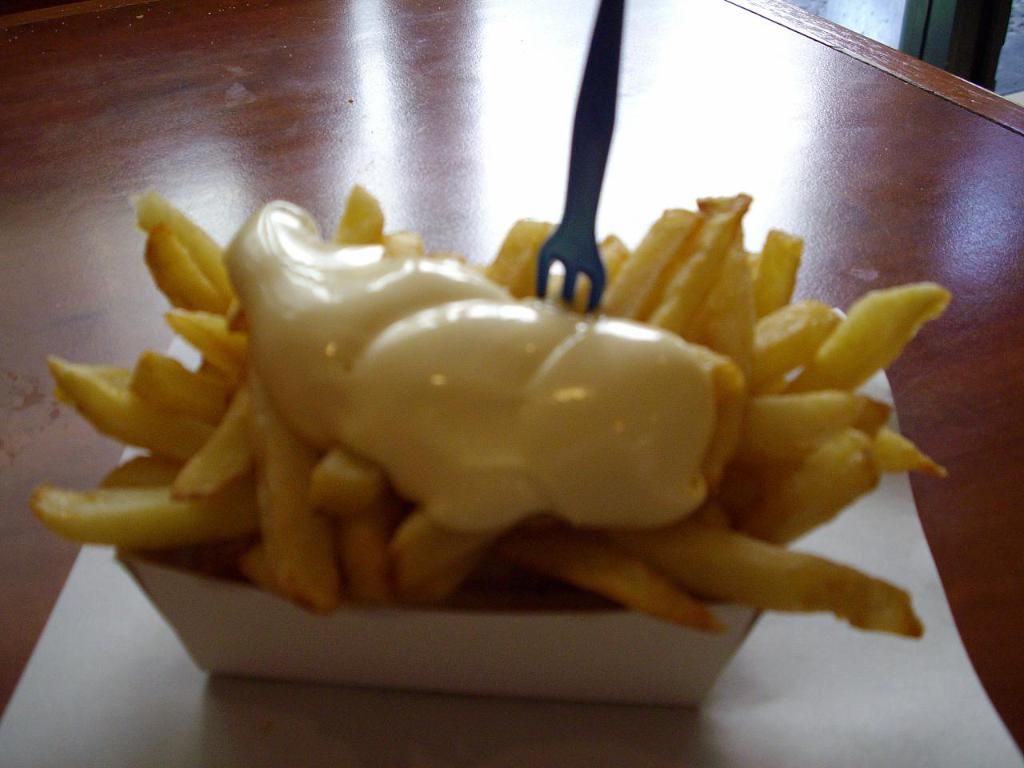French fries: (35, 180, 956, 642)
